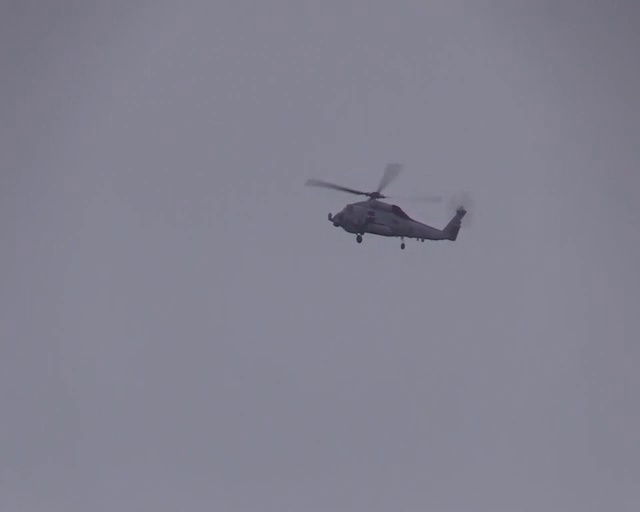HELICOPTER: (304, 160, 469, 249)
